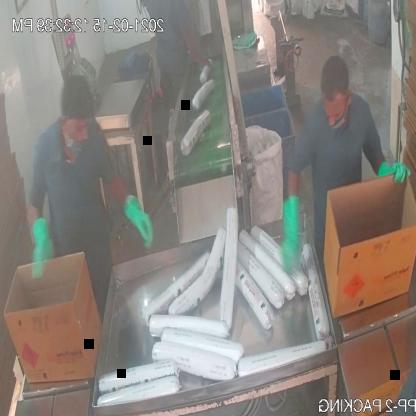glove: (274, 183, 309, 281), (123, 184, 159, 262), (29, 204, 59, 283), (370, 144, 408, 186)
no_glove: (177, 30, 213, 77)
